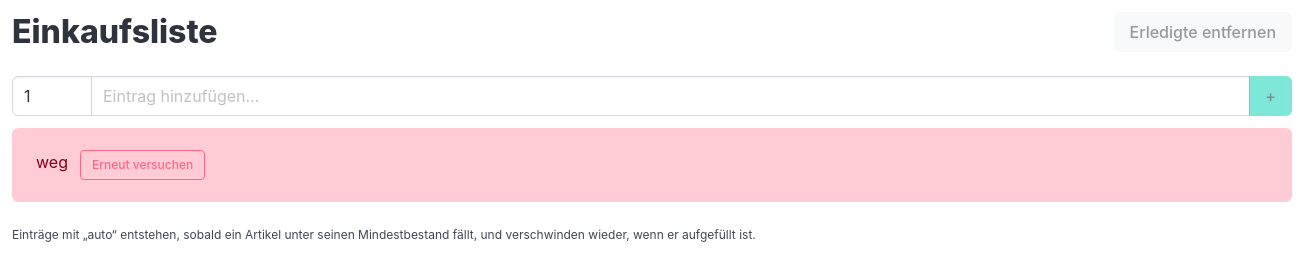
Test: ShoppingListPage › shows empty list and errors
The image size is (1304, 259).
Expected: the button "Erledigte entfernen" is disabled, [1114,12,1292,52]
Click the button "Erneut versuchen": {"x": 143, "y": 165} [80,150,205,180]
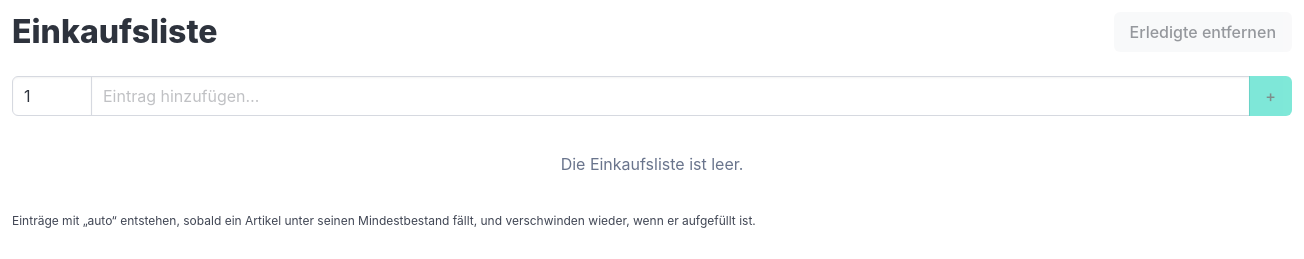
Result: the text "Die Einkaufsliste ist leer." is shown at [561,154,743,174]
